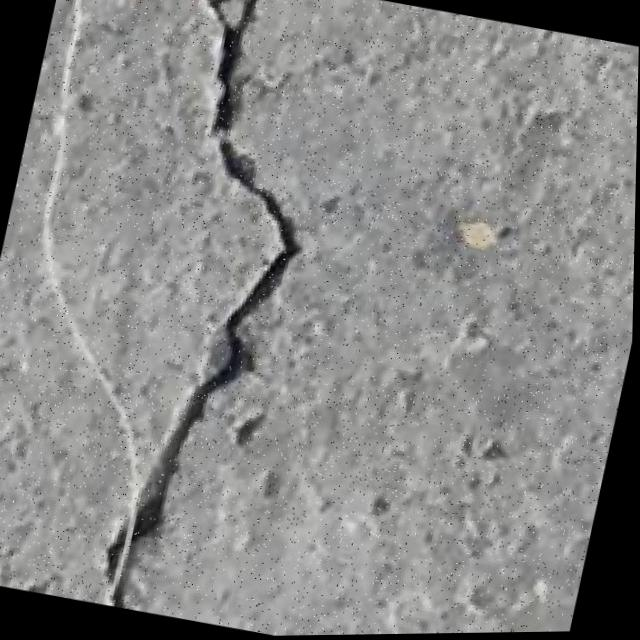Crack: (34, 0, 371, 631)
